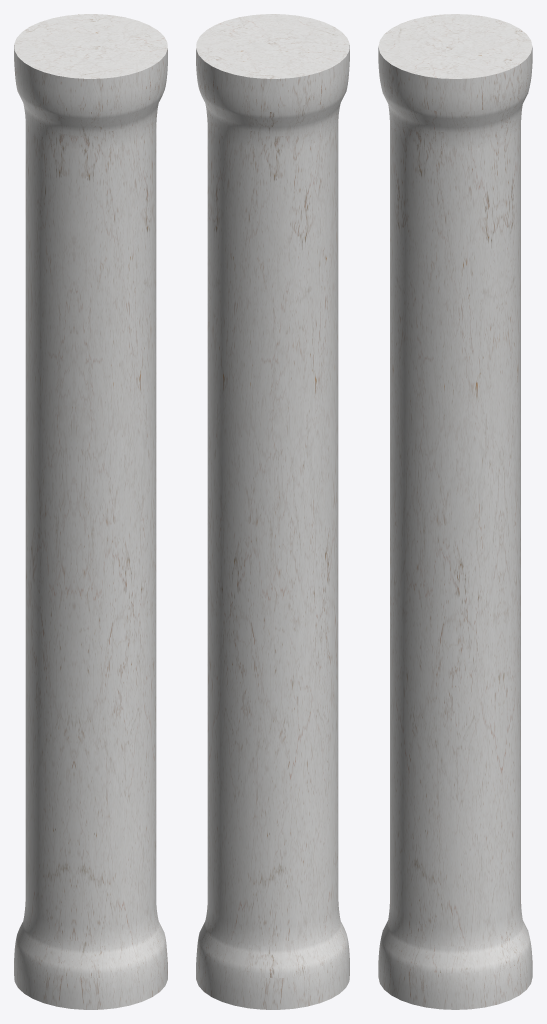
The model's file is column0.glb.
The picture shows the model from 3 angles, left to right: view 1: azimuth 30°, elevation 25°; view 2: azimuth 150°, elevation 25°; view 3: azimuth 270°, elevation 25°; orthographic projection.
Parts seen in each view (by area): view 1: Cylinder; view 2: Cylinder; view 3: Cylinder.
Boxes of the visible parts, x1,y1,x2,y2 form: Cylinder: (14, 14, 167, 1009); Cylinder: (196, 14, 349, 1009); Cylinder: (378, 14, 532, 1009).
Size of the model in its own units: 0.3 by 2 by 0.3.
Materials: 1 (1 with a texture image).
